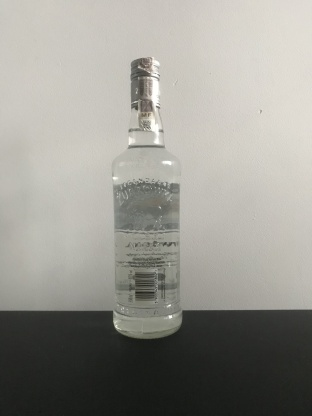nakretka: (128, 55, 161, 112)
